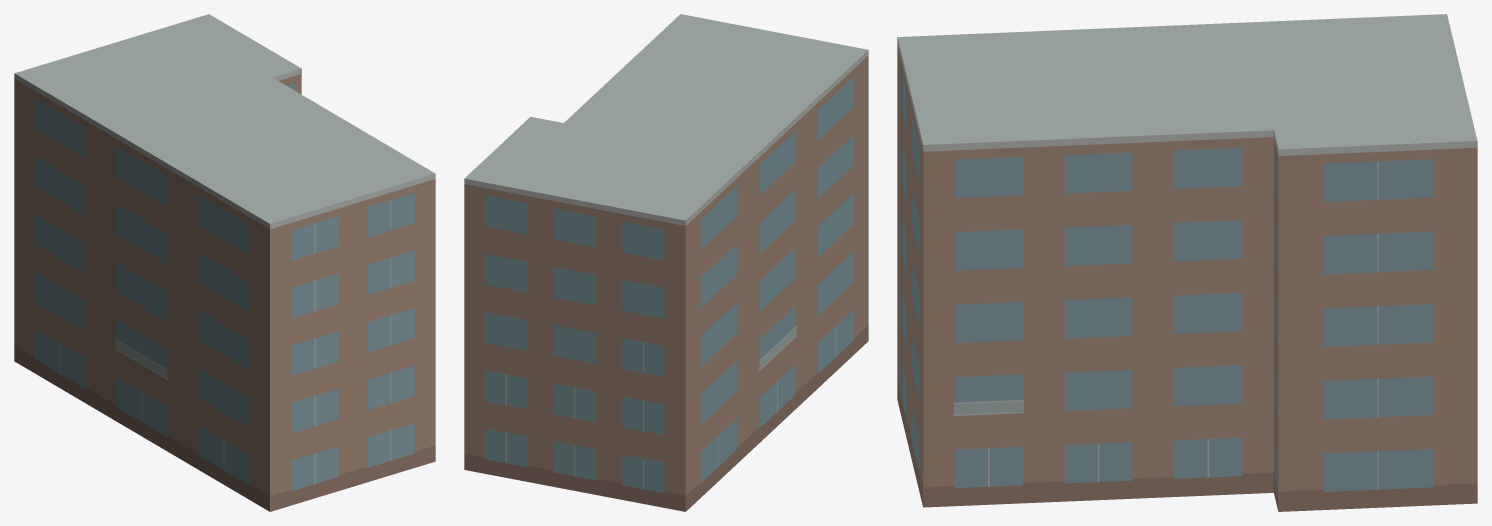
File: survey-upis-32634154.glb
The picture shows the model from 3 angles, left to right: view 1: azimuth 30°, elevation 25°; view 2: azimuth 150°, elevation 25°; view 3: azimuth 270°, elevation 25°; orthographic projection. The views are drawn at different scales.
Parts seen in each view (by area): view 1: survey-upis-32634154.tmp; view 2: survey-upis-32634154.tmp; view 3: survey-upis-32634154.tmp.
Boxes of the visible parts, left/top/right/bottom form: survey-upis-32634154.tmp: left=14, top=14, right=435, bottom=511; survey-upis-32634154.tmp: left=464, top=14, right=868, bottom=511; survey-upis-32634154.tmp: left=897, top=14, right=1477, bottom=511.
Size of the model in its own units: 10.59 by 13.2 by 19.16.
